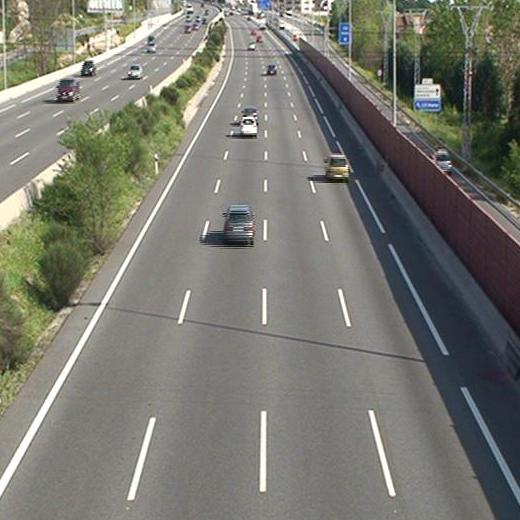car: (224, 206, 253, 241), (325, 155, 348, 178), (241, 117, 258, 134), (242, 107, 257, 117), (266, 63, 276, 74)
